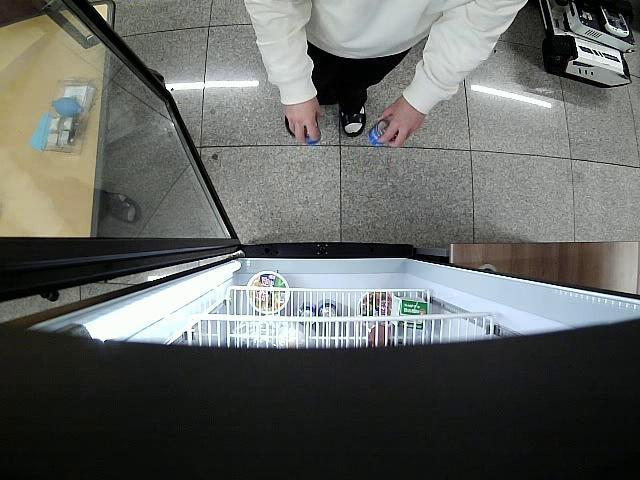15_letsbe: (370, 120, 391, 145)
